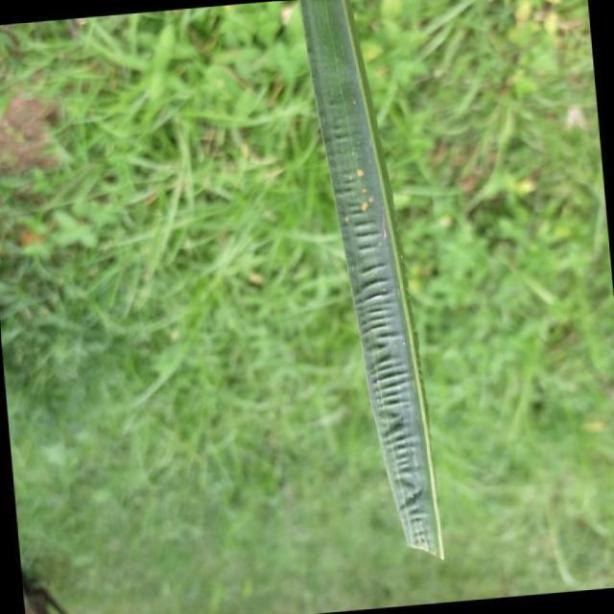Boron: (301, 0, 452, 562)
